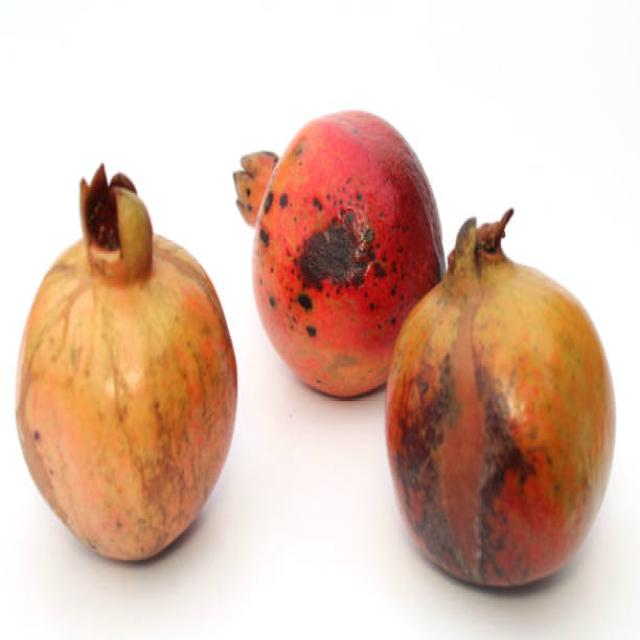overripe: (382, 205, 620, 592), (15, 162, 238, 572), (235, 108, 445, 399)
